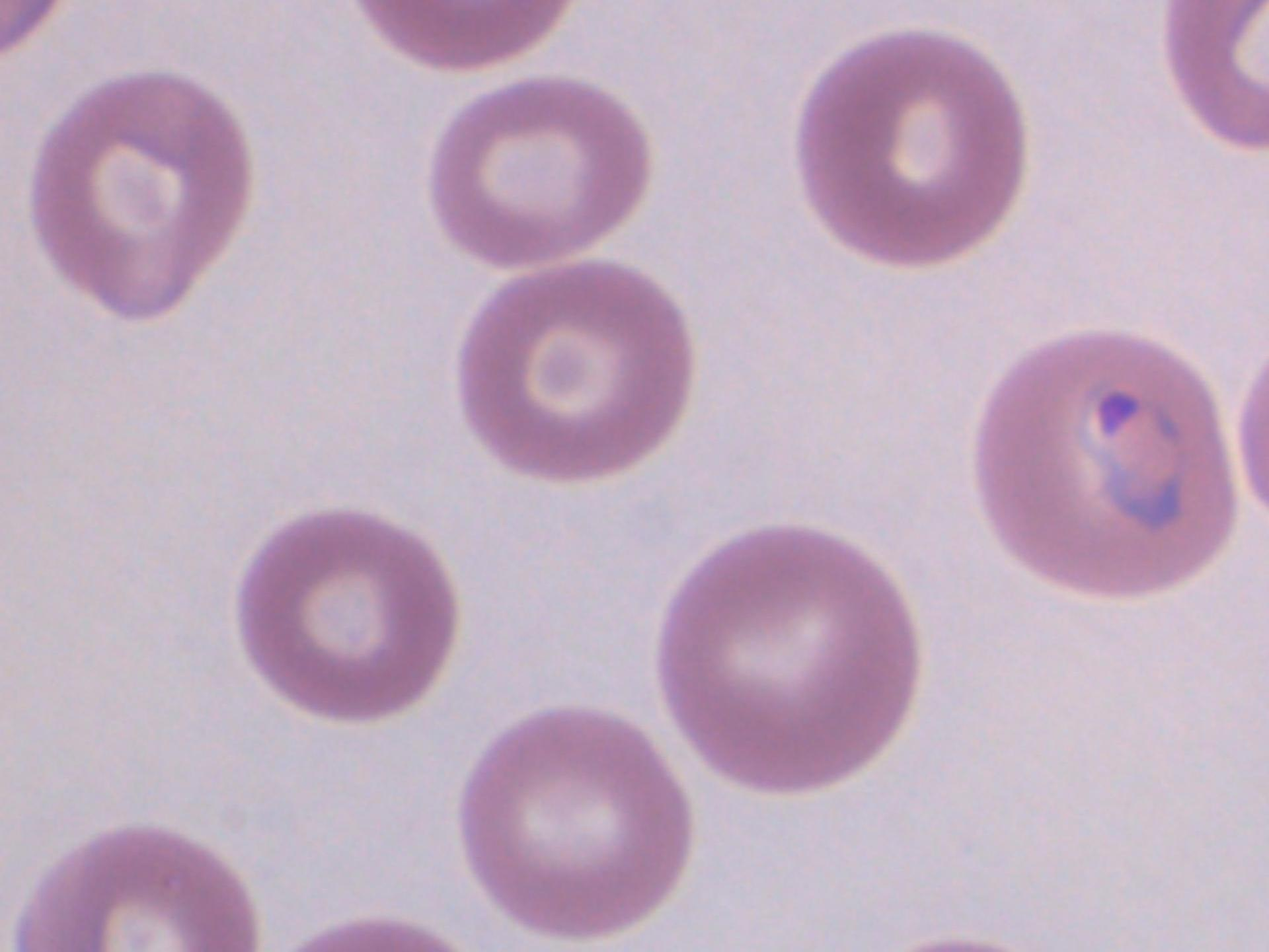Infected: (24, 355, 294, 624)
Uninfected: (352, 161, 614, 430), (242, 683, 474, 930), (1020, 631, 1247, 883), (575, 468, 808, 698), (579, 23, 809, 250), (811, 228, 1030, 445), (621, 677, 833, 881)
